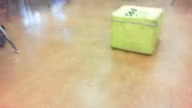cube: (110, 4, 164, 55)
